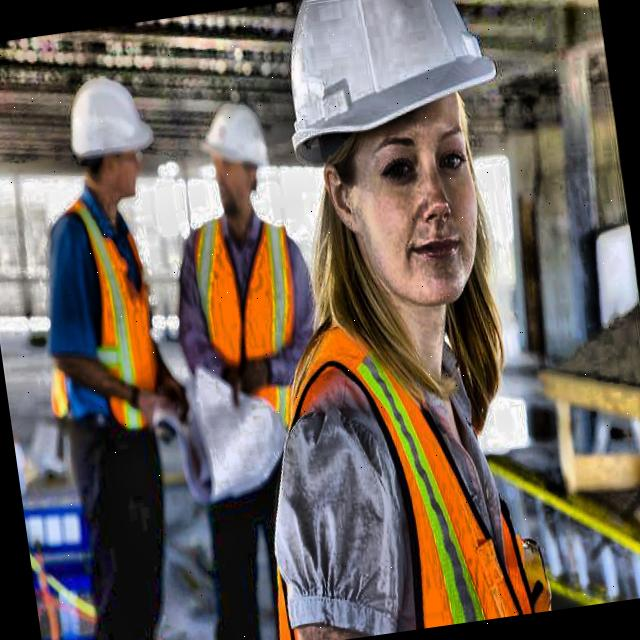helmet: (258, 0, 551, 342), (54, 61, 165, 221), (188, 91, 280, 222)
